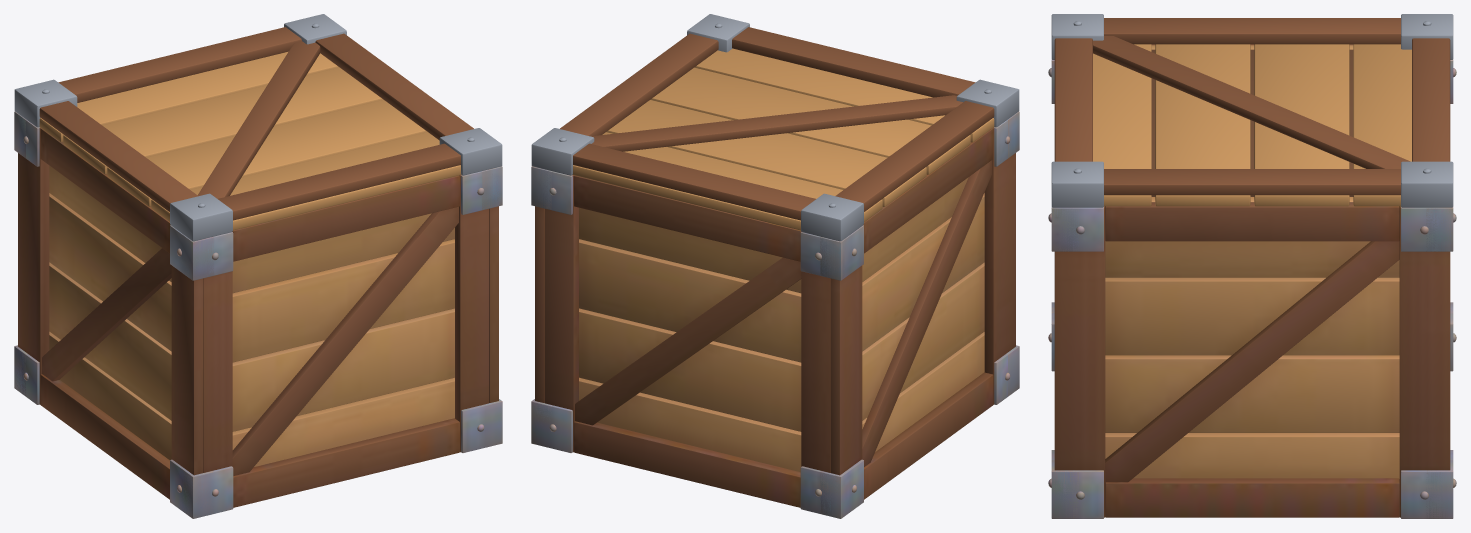
File: wooden-crate.glb
The picture shows the model from 3 angles, left to right: view 1: azimuth 30°, elevation 25°; view 2: azimuth 150°, elevation 25°; view 3: azimuth 270°, elevation 25°; orthographic projection. The views are drawn at different scales.
Visible parts, largest first — view 1: wooden-crate_body, wooden-crate_lid; view 2: wooden-crate_body, wooden-crate_lid; view 3: wooden-crate_body, wooden-crate_lid.
Boxes of the visible parts, x1,y1,x2,y2 form: wooden-crate_body: (14, 111, 502, 518); wooden-crate_lid: (14, 14, 502, 241); wooden-crate_body: (531, 111, 1019, 518); wooden-crate_lid: (531, 14, 1019, 241); wooden-crate_body: (1048, 44, 1456, 518); wooden-crate_lid: (1051, 14, 1453, 207).
Size of the model in its own units: 0.66 by 0.6053 by 0.6605.
Materials: 5 (1 with a texture image).
